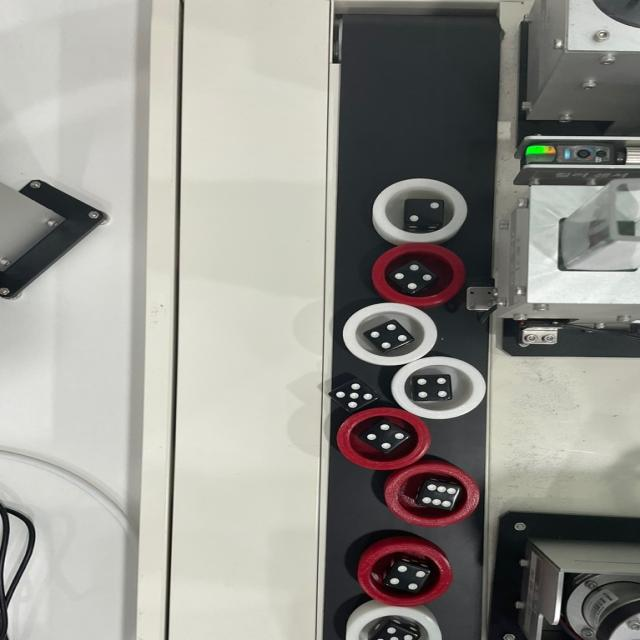DICE2: (405, 199, 446, 227)
DICE4: (368, 321, 411, 352), (394, 263, 436, 290), (365, 426, 411, 450), (388, 564, 428, 590), (416, 376, 449, 398)
DICE5: (336, 380, 374, 409), (372, 626, 415, 640)
DICE6: (421, 483, 458, 508)
RedChip: (386, 463, 478, 528), (336, 408, 434, 469), (358, 544, 454, 606), (371, 243, 463, 304)
WhiteChip: (370, 177, 469, 244), (391, 357, 489, 419), (340, 302, 435, 365), (346, 606, 445, 640)
